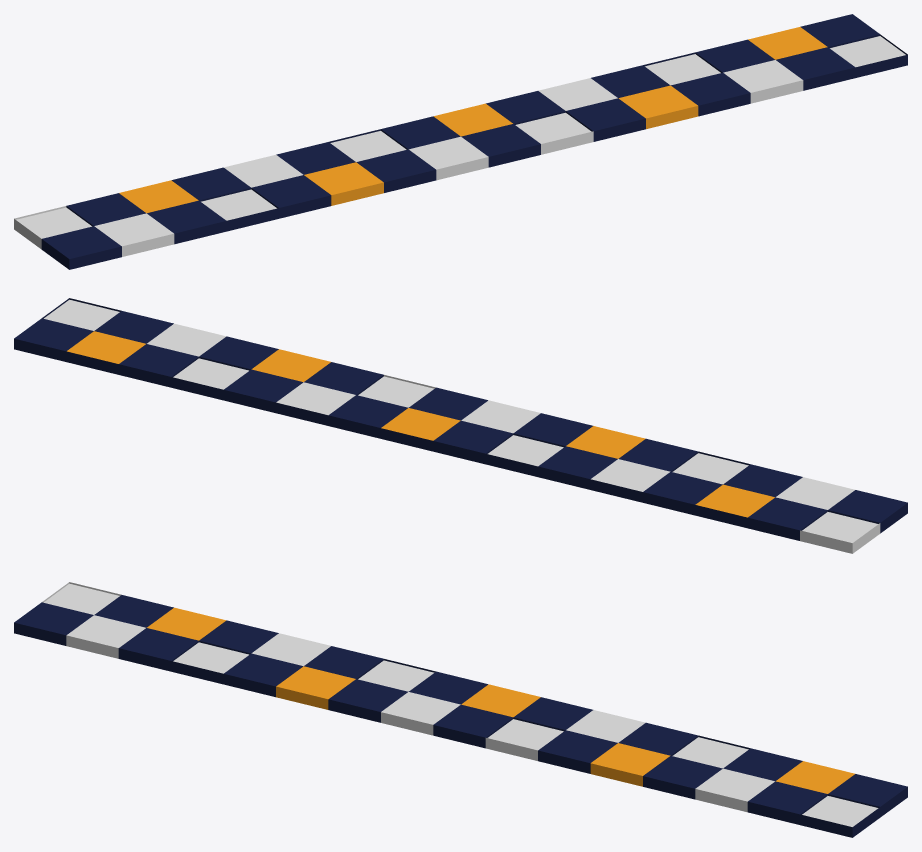
3 views of the same model, one above another, from view 1: azimuth 30°, elevation 25°; view 2: azimuth 150°, elevation 25°; view 3: azimuth 330°, elevation 25° (orthographic).
Parts seen in each view (by area): view 1: Cube; view 2: Cube; view 3: Cube.
Part boxes in pixels (<box>): Cube: <box>14,14,907,269</box>; Cube: <box>14,298,907,553</box>; Cube: <box>14,582,907,837</box>.
Bounding box in the file's own units: 1746 × 21.46 × 200.
